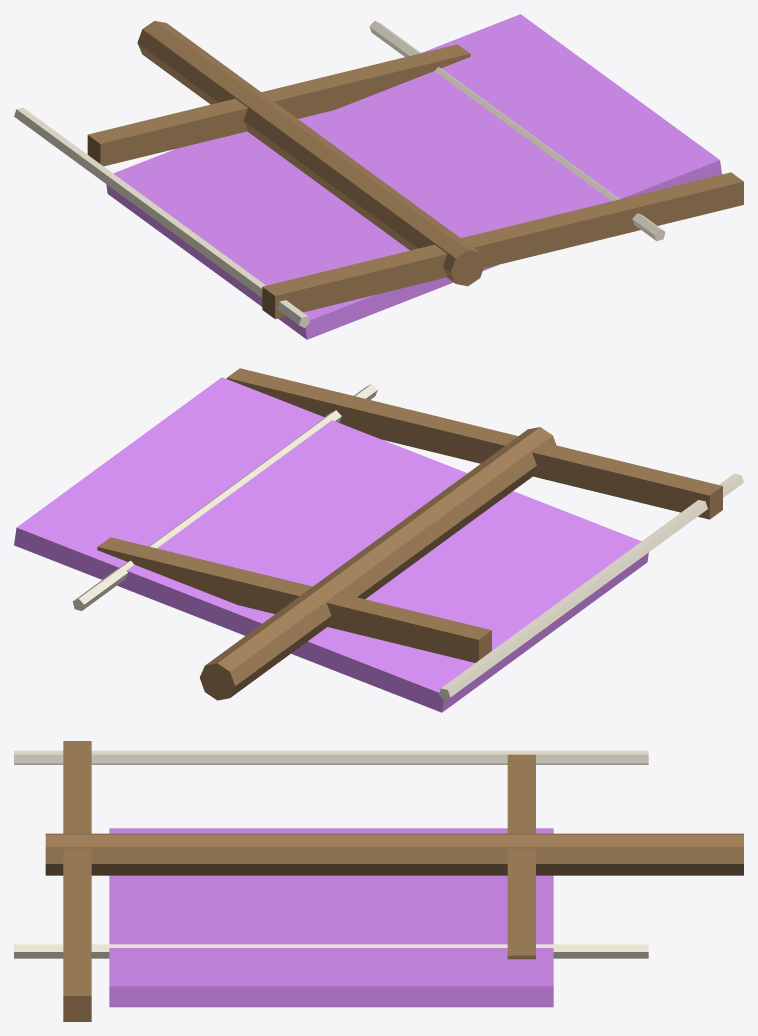
Rendered from 07_skyship_rigging.glb.
3 views of the same model, one above another, from view 1: azimuth 30°, elevation 25°; view 2: azimuth 150°, elevation 25°; view 3: azimuth 270°, elevation 25° (orthographic). The views are drawn at different scales.
Visible parts, largest first — view 1: sail_panel, spar_top, mast, spar_bottom, rigging_line_l, rigging_line_r; view 2: sail_panel, mast, spar_top, spar_bottom, rigging_line_l, rigging_line_r; view 3: sail_panel, mast, rigging_line_l, spar_top, spar_bottom, rigging_line_r.
Boxes of the visible parts, left/top/right/bottom form: sail_panel: left=106, top=14, right=721, bottom=339; spar_top: left=262, top=172, right=743, bottom=319; mast: left=137, top=21, right=484, bottom=286; spar_bottom: left=87, top=44, right=470, bottom=166; rigging_line_l: left=14, top=107, right=309, bottom=327; rigging_line_r: left=369, top=21, right=665, bottom=241; sail_panel: left=14, top=377, right=648, bottom=712; mast: left=199, top=427, right=556, bottom=700; spar_top: left=226, top=368, right=722, bottom=519; spar_bottom: left=97, top=537, right=491, bottom=662; rigging_line_l: left=439, top=473, right=743, bottom=700; rigging_line_r: left=72, top=384, right=377, bottom=610; sail_panel: left=109, top=828, right=553, bottom=1007; mast: left=45, top=833, right=743, bottom=875; rigging_line_l: left=14, top=750, right=648, bottom=764; spar_top: left=63, top=741, right=91, bottom=1021; spar_bottom: left=507, top=754, right=535, bottom=959; rigging_line_r: left=14, top=944, right=648, bottom=958.
Bounding box in the file's own units: 0.9025 × 0.1453 × 1.09.
